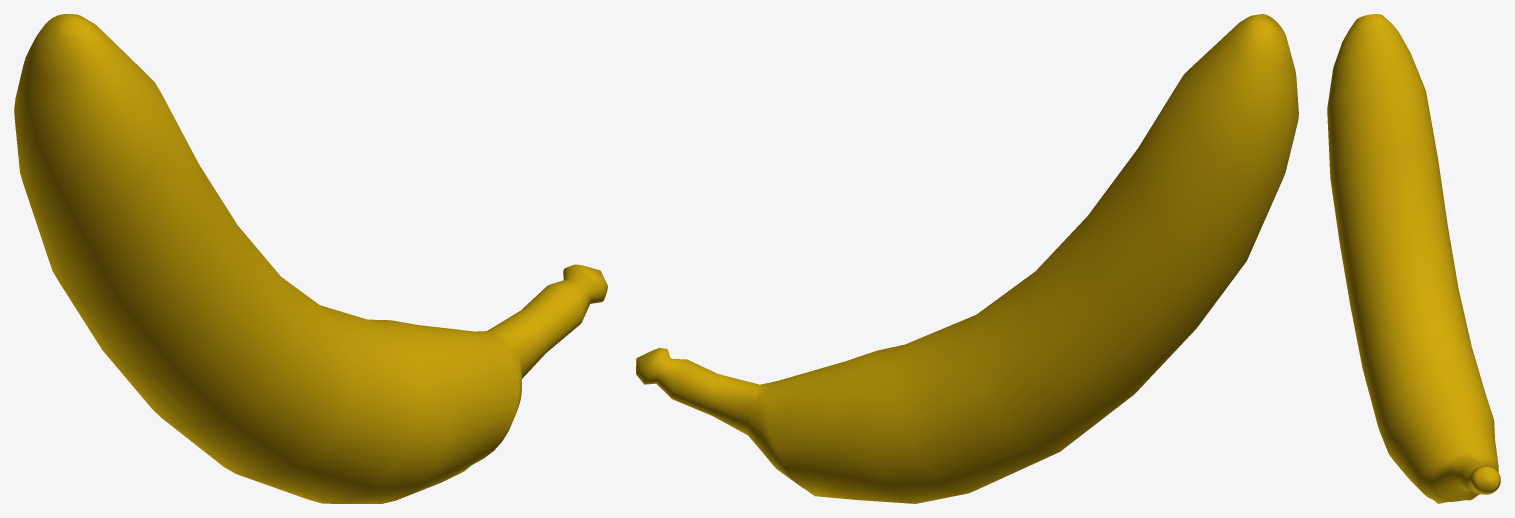
Rendered from banana.FBX.
3 views of the same model, side by side, from view 1: azimuth 30°, elevation 25°; view 2: azimuth 150°, elevation 25°; view 3: azimuth 270°, elevation 25° (orthographic). The views are drawn at different scales.
Parts seen in each view (by area): view 1: banana; view 2: banana; view 3: banana.
Boxes of the visible parts, box(x1,y1,x2,y2) form: banana: box(14, 14, 607, 503); banana: box(636, 14, 1298, 503); banana: box(1327, 14, 1500, 503).
Bounding box in the file's own units: 25.1 × 9.5 × 21.84.
